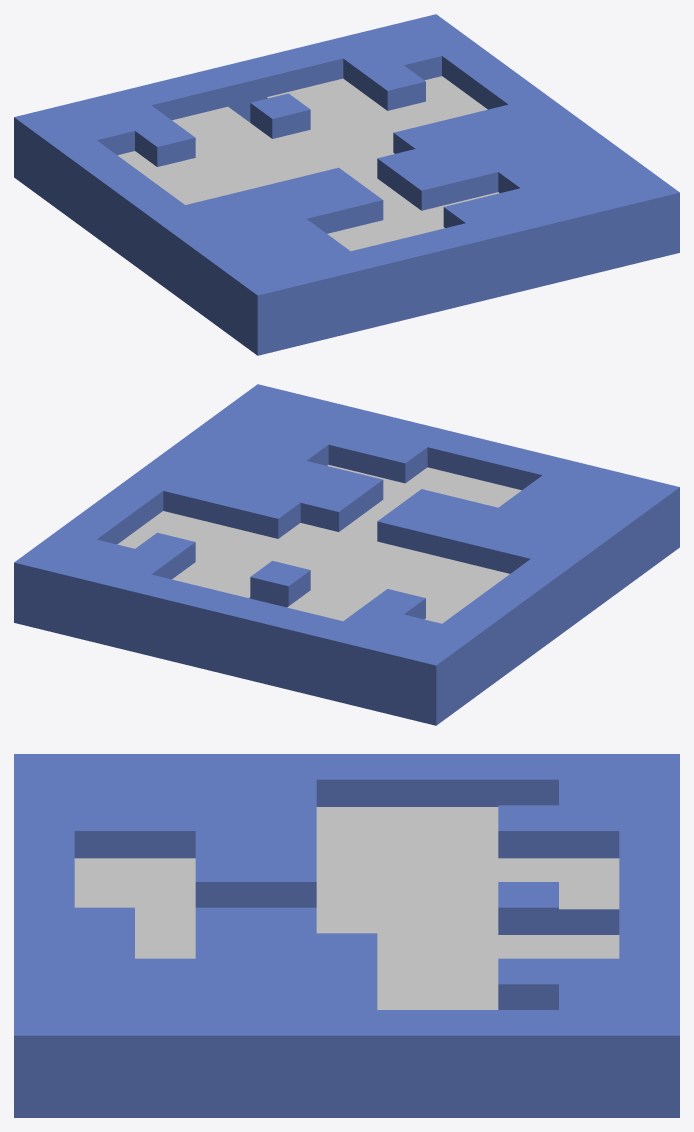
File: 011_platform.fbx
The picture shows the model from 3 angles, top to bottom: view 1: azimuth 30°, elevation 25°; view 2: azimuth 150°, elevation 25°; view 3: azimuth 270°, elevation 25°; orthographic projection. The views are drawn at different scales.
Parts seen in each view (by area): view 1: Cube; view 2: Cube; view 3: Cube.
Part boxes in pixels (bbox=[...]): Cube: bbox=[14, 14, 679, 355]; Cube: bbox=[14, 384, 679, 725]; Cube: bbox=[14, 754, 679, 1117].
Bounding box in the file's own units: 1100 × 150 × 1100.
